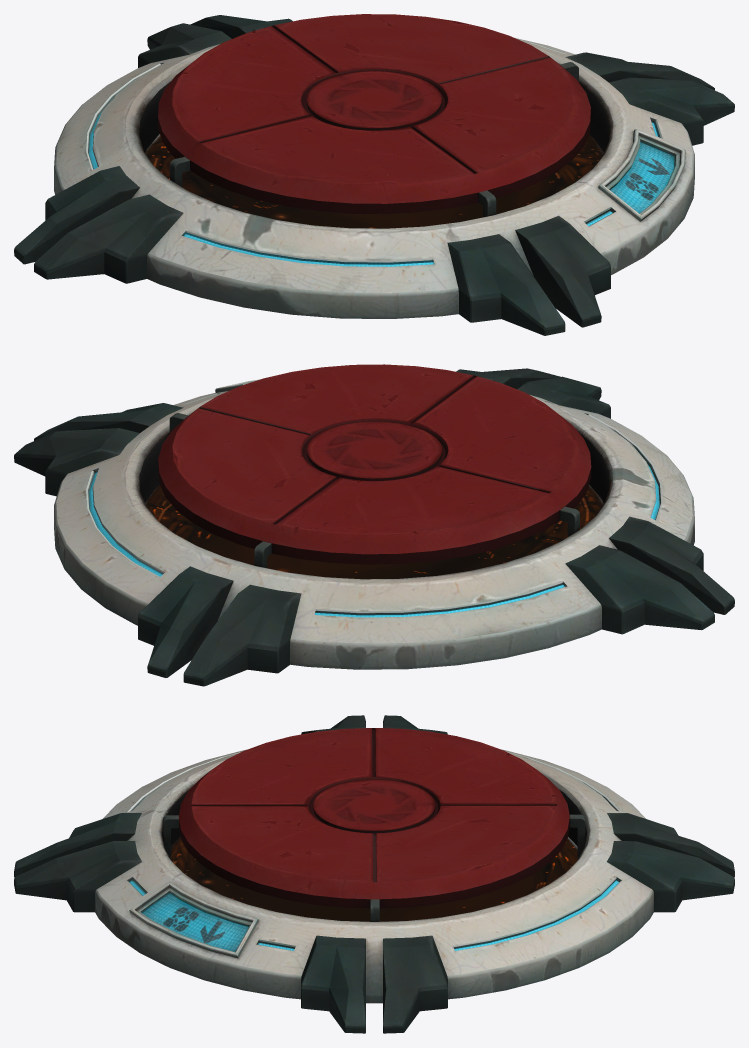
The model's file is button.obj.
3 renders of one model, top to bottom at view 1: azimuth 30°, elevation 25°; view 2: azimuth 150°, elevation 25°; view 3: azimuth 270°, elevation 25°, orthographic. The views are drawn at different scales.
Visible parts, largest first — view 1: button; view 2: button; view 3: button.
Boxes of the visible parts, x1,y1,x2,y2 form: button: (14, 14, 734, 335); button: (14, 364, 734, 686); button: (14, 715, 734, 1033).
Size of the model in its own units: 117 by 13.64 by 117.
Materials: 1 (1 with a texture image).
